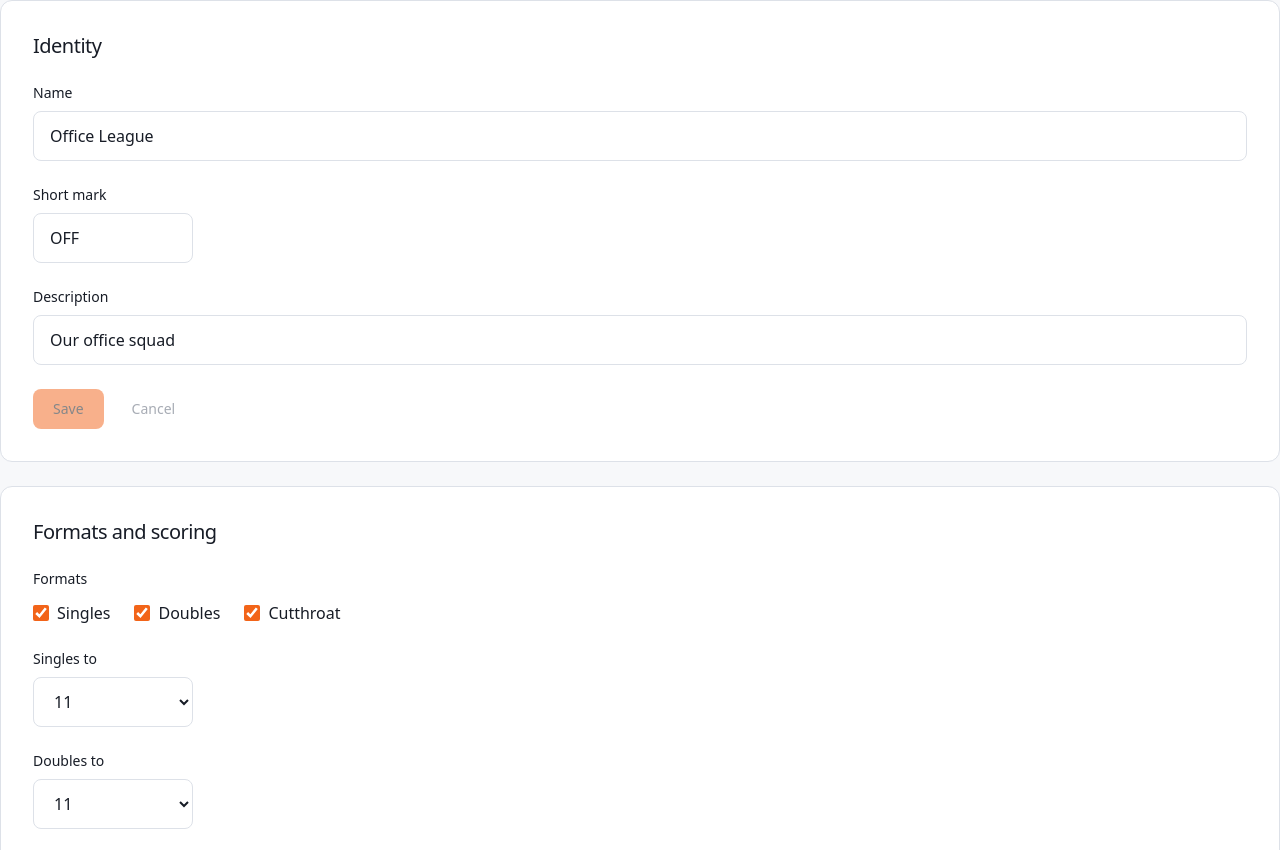
it: a check that could not be made › offers another read and nothing that writes
The image size is (1280, 850).
Replace the text in the field with id "setting-name" with "Renamed" at point(640, 136), box [33,111,1247,161]
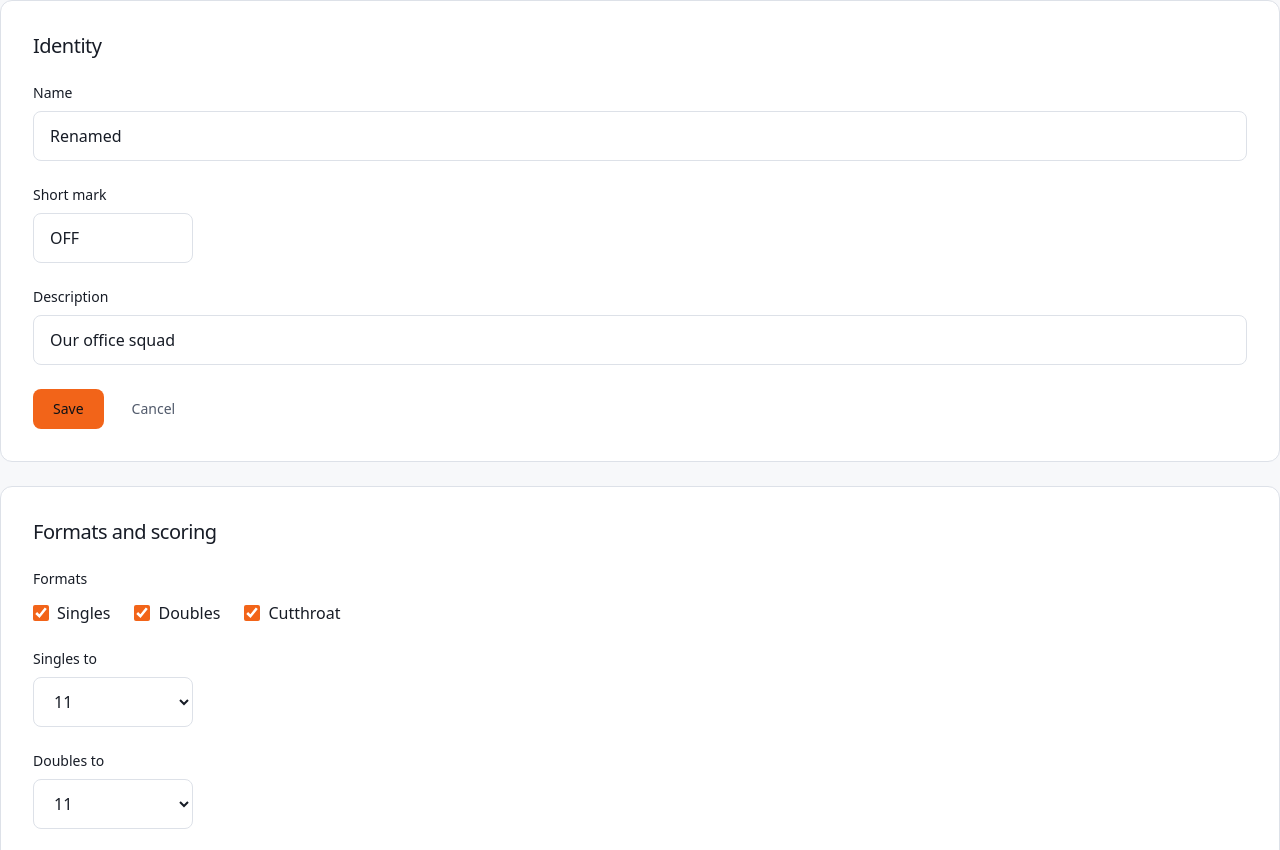
Click the button "Save" at point(68, 409), box [33,389,104,429]
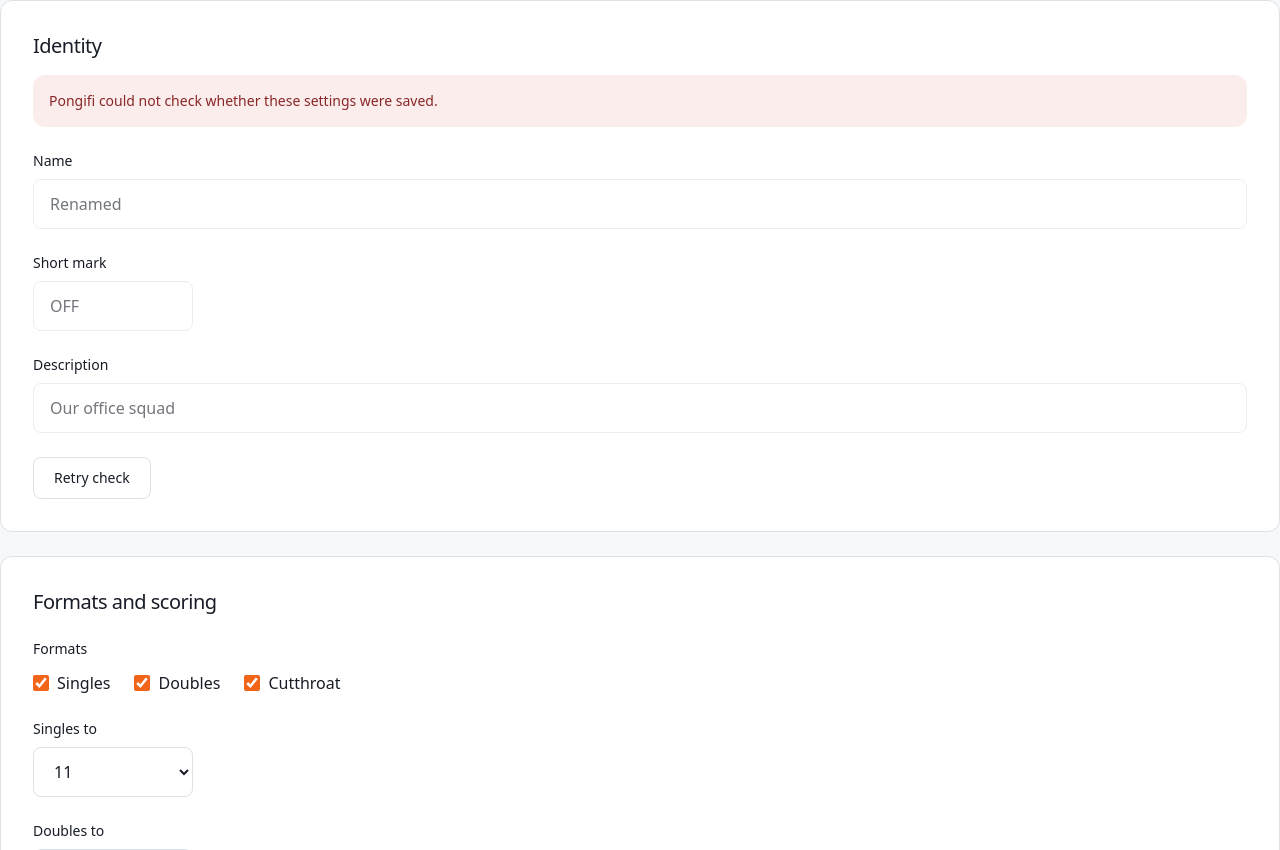
Check: the element that starts with "Identity" shows "Pongifi could not check whether these settings were saved.", box [49,91,438,110]
Check: the button "Retry check" is shown, box [33,457,151,499]
